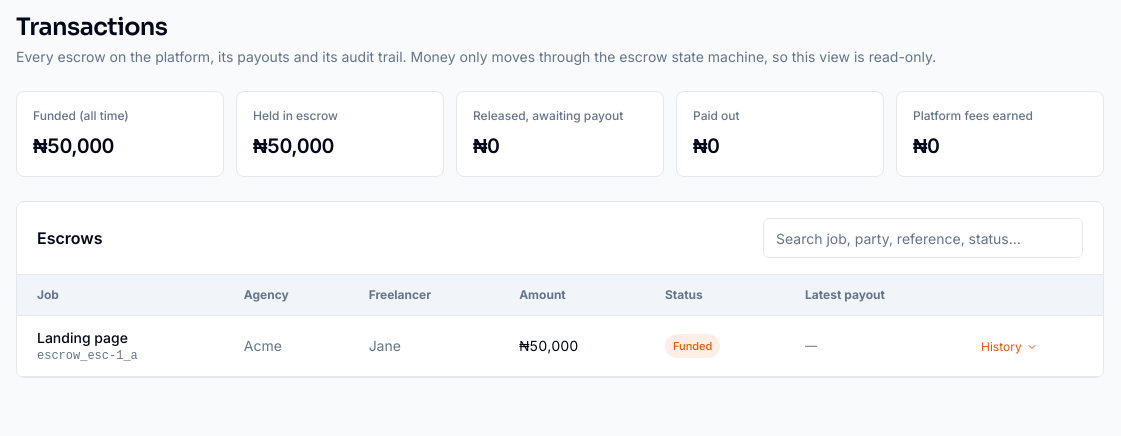
Scenario: AdminTransactions › shows ledger totals, rows and an escrow's event history
The image size is (1121, 436).
Expected: the text "₦50,000" below "Funded (all time)" is shown, [33, 134, 114, 158]
Expected: the text "Landing page" is shown, [37, 329, 128, 346]
Click the button with aria-label "history for landing page".
click(1009, 347)  # box [981, 339, 1038, 355]
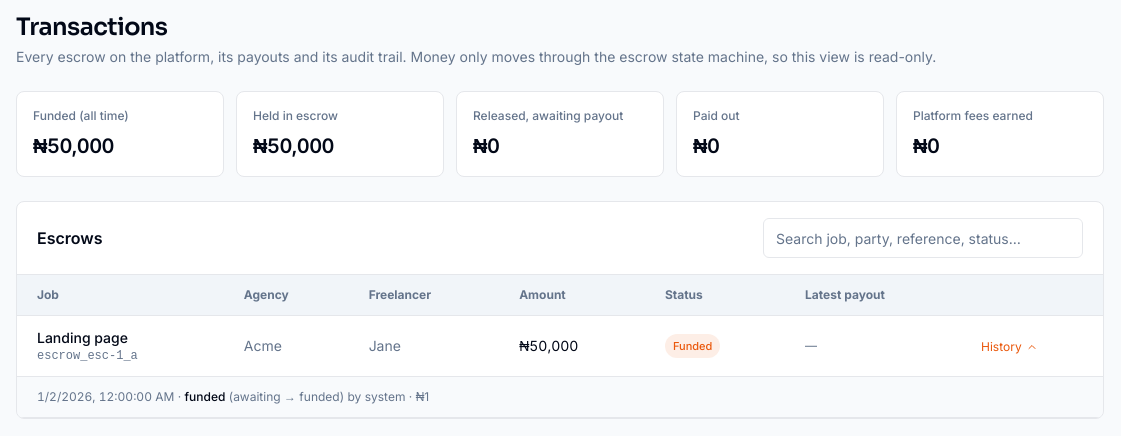
Result: the text "funded" is shown at [184, 389, 225, 404]
